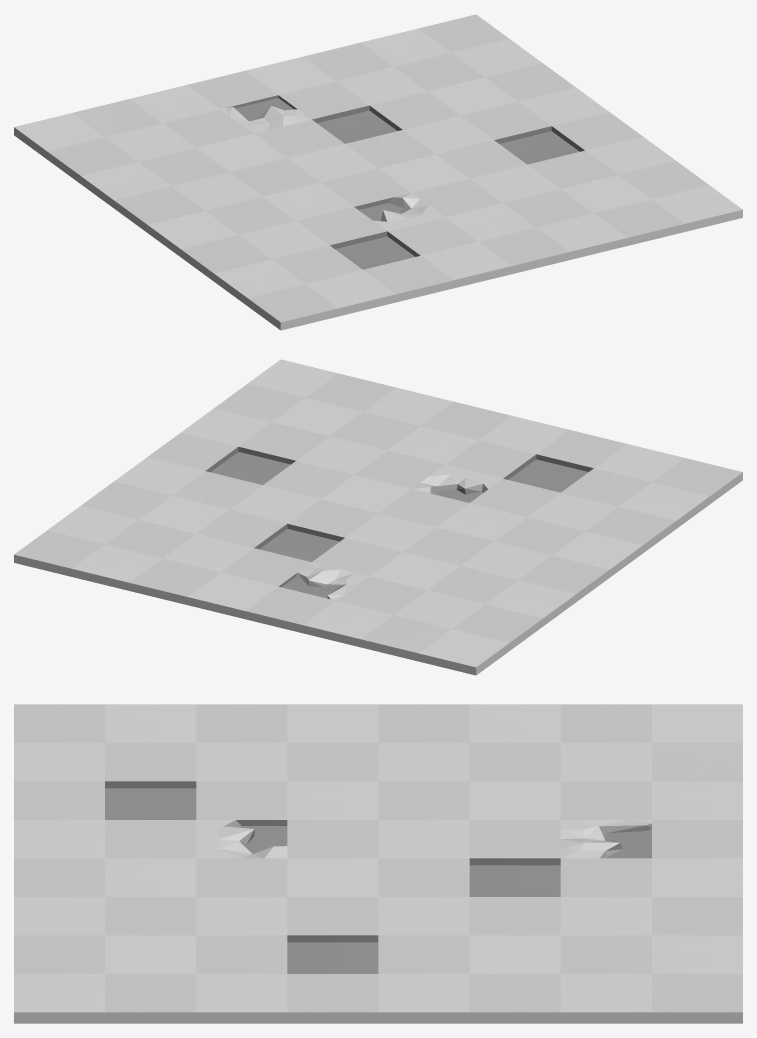
The model's file is floor_tile_1.obj.
3 renders of one model, top to bottom at view 1: azimuth 30°, elevation 25°; view 2: azimuth 150°, elevation 25°; view 3: azimuth 270°, elevation 25°, orthographic. The views are drawn at different scales.
Parts seen in each view (by area): view 1: floor_tile_1_Material; view 2: floor_tile_1_Material; view 3: floor_tile_1_Material.
Part boxes in pixels (<box>): floor_tile_1_Material: <box>14,14,742,330</box>; floor_tile_1_Material: <box>14,359,742,675</box>; floor_tile_1_Material: <box>14,704,742,1023</box>.
Bounding box in the file's own units: 3.51 × 0.0766 × 3.51.
